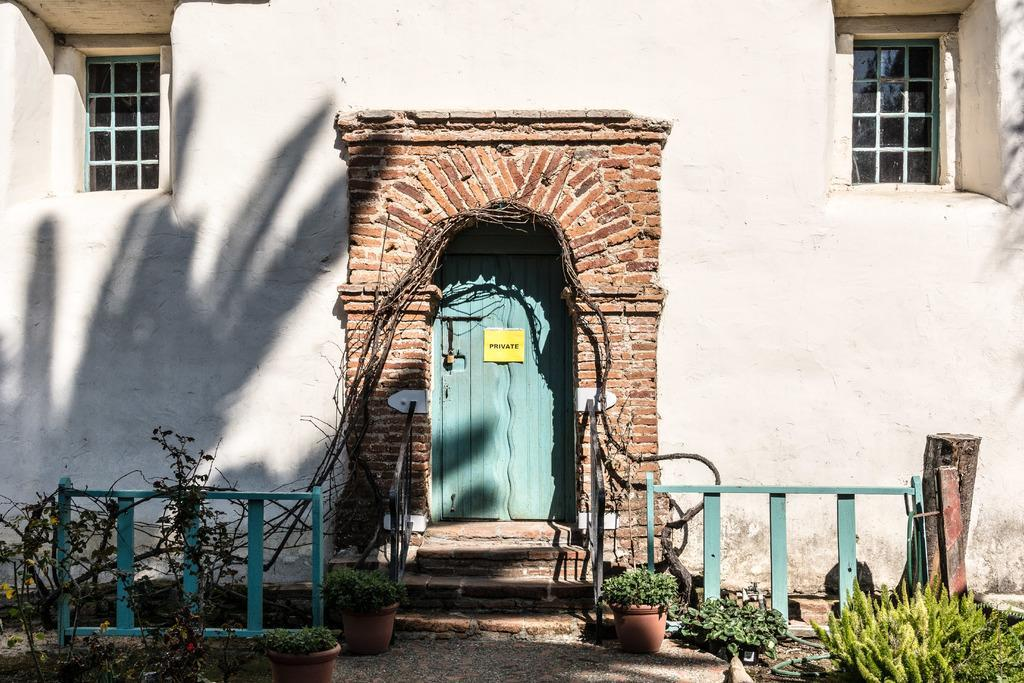door: (436, 272, 508, 507), (508, 278, 574, 528)
